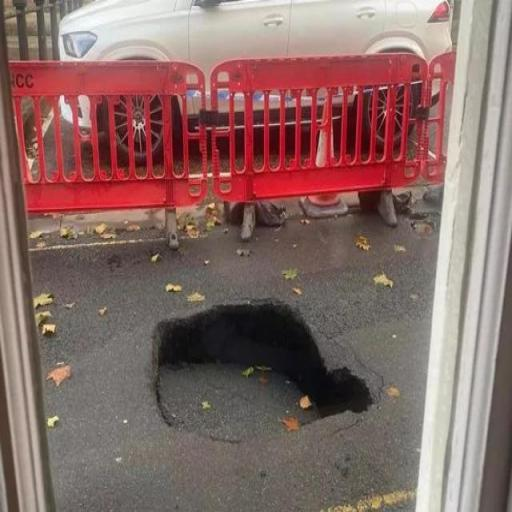Concentric_Crack: (155, 305, 372, 442)
